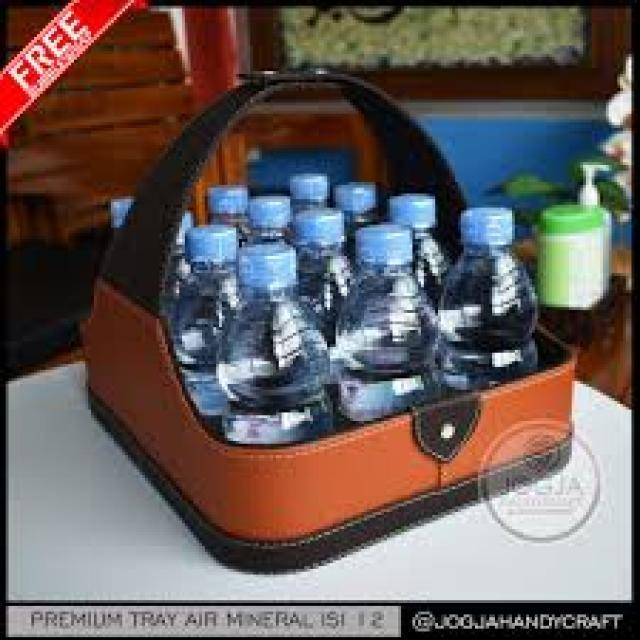bottle: (199, 231, 355, 509), (340, 226, 470, 428), (447, 206, 569, 417), (152, 221, 283, 391), (360, 169, 458, 248), (271, 201, 363, 283), (332, 143, 398, 234), (185, 172, 272, 238), (291, 159, 353, 228)
cap: (225, 244, 300, 298), (180, 218, 245, 270), (350, 222, 420, 268), (456, 205, 522, 252), (295, 202, 343, 250), (199, 179, 248, 214), (391, 194, 443, 224), (333, 175, 378, 207), (288, 172, 328, 200), (250, 188, 284, 218)
